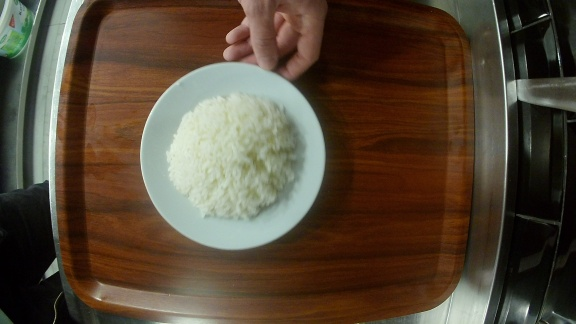pilav: (138, 62, 327, 249)
